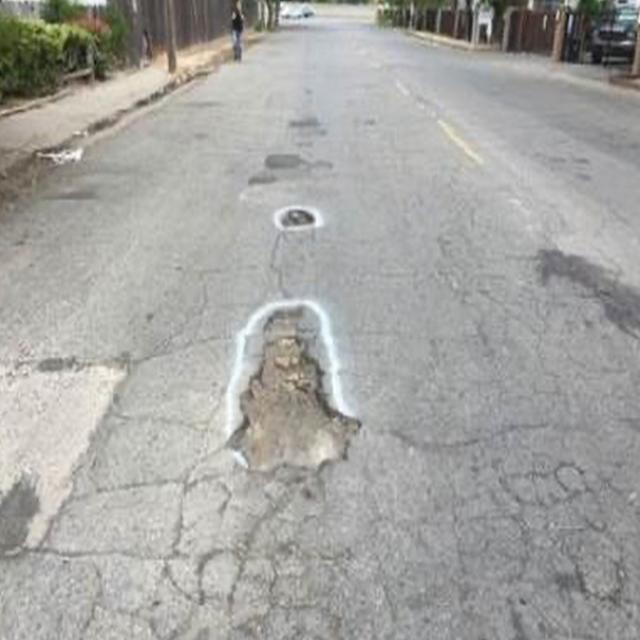Lubang: (230, 318, 357, 473), (278, 205, 317, 230)
